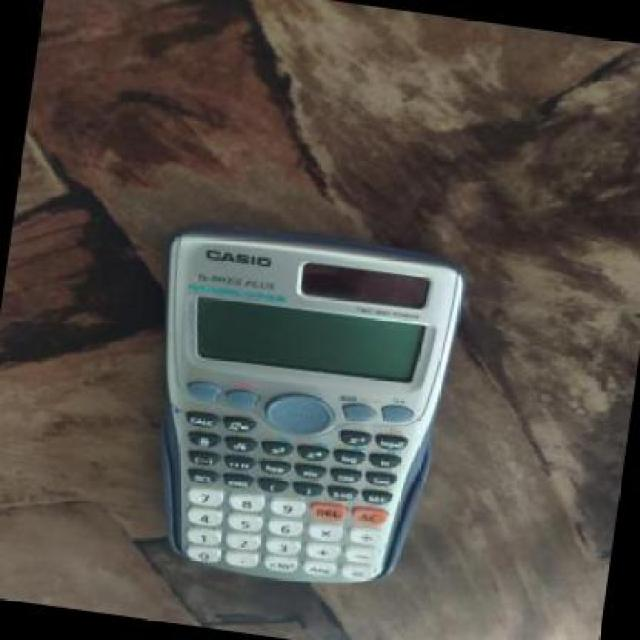Calculator: (111, 212, 478, 610)
